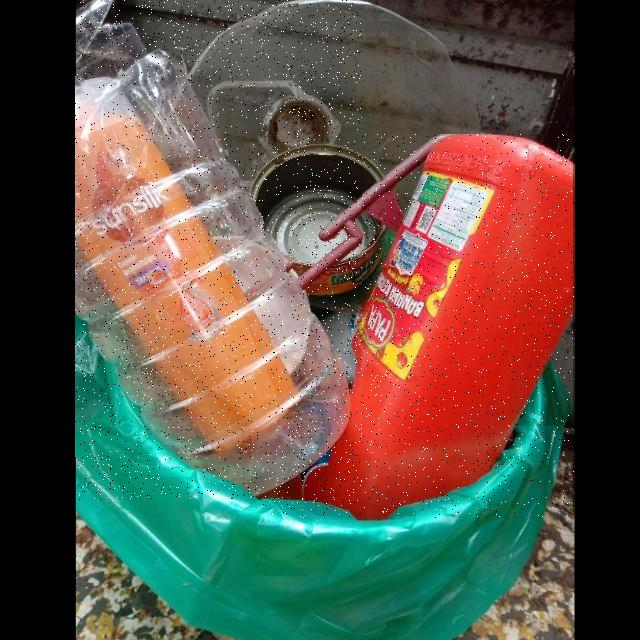metal: (251, 145, 393, 294)
plastic: (78, 0, 362, 500), (257, 134, 574, 518), (76, 76, 295, 457)
